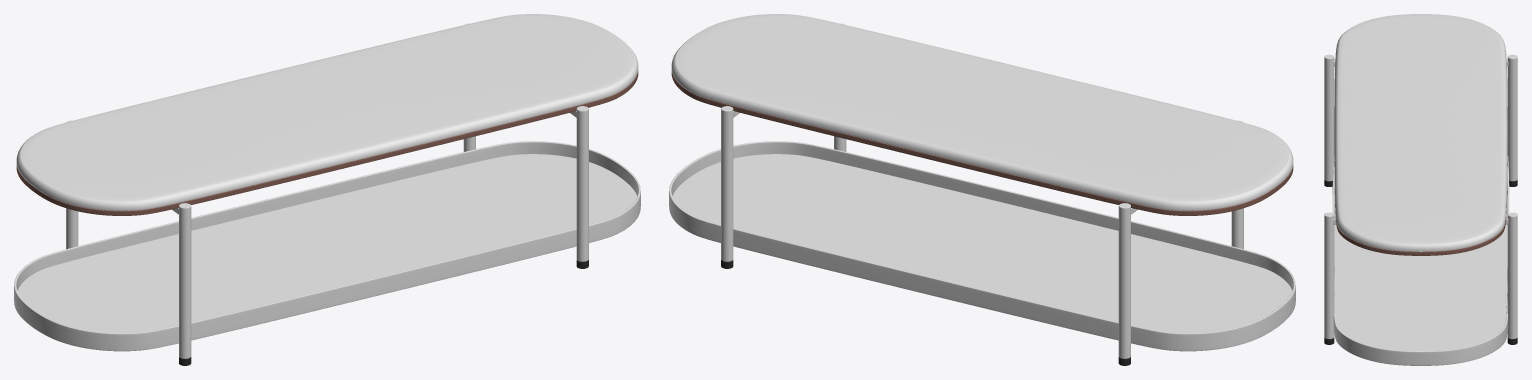
Rendered from LongTable.fbx.
3 views of the same model, side by side, from view 1: azimuth 30°, elevation 25°; view 2: azimuth 150°, elevation 25°; view 3: azimuth 270°, elevation 25° (orthographic). The views are drawn at different scales.
Parts seen in each view (by area): view 1: Plane, Plane.001, Plane.002, Cylinder, Plane.003; view 2: Plane, Plane.001, Plane.002, Cylinder, Plane.003; view 3: Plane, Plane.001, Cylinder, Plane.002, Plane.003, Cylinder.001.
Part boxes in pixels (x1,y1,x2,y2): Plane: (16, 14, 638, 210); Plane.001: (17, 154, 637, 333); Plane.002: (14, 141, 640, 351); Cylinder: (66, 23, 588, 358); Plane.003: (16, 71, 638, 215); Plane: (671, 14, 1293, 210); Plane.001: (672, 154, 1292, 333); Plane.002: (669, 141, 1295, 351); Cylinder: (721, 23, 1243, 358); Plane.003: (671, 71, 1293, 215); Plane: (1334, 14, 1507, 251); Plane.001: (1334, 194, 1507, 351); Cylinder: (1324, 54, 1517, 339); Plane.002: (1332, 156, 1509, 365); Plane.003: (1334, 162, 1507, 255); Cylinder.001: (1324, 180, 1517, 344).
Size of the model in its own units: 141 by 38.01 by 49.13.
